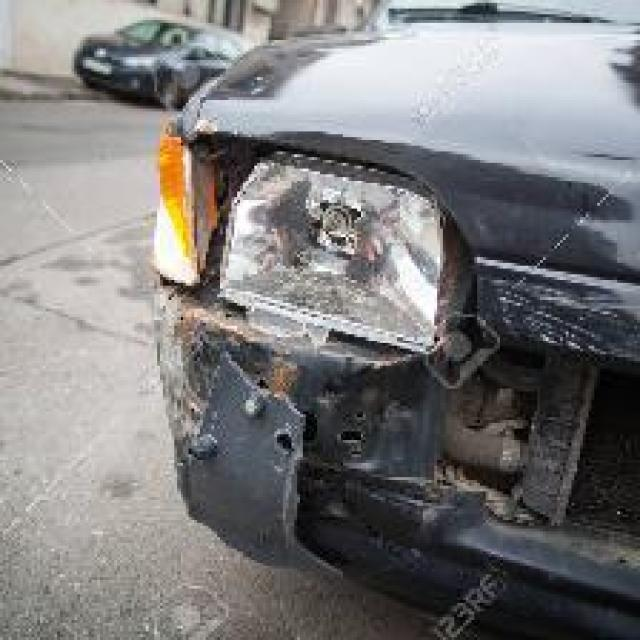damaged: (160, 132, 637, 597)
